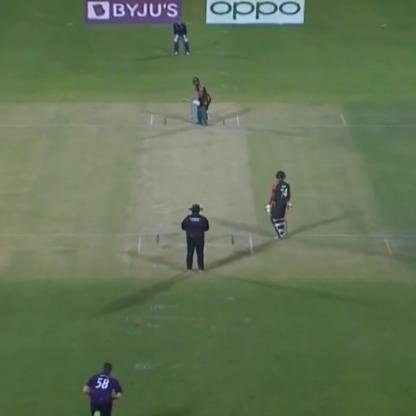pitch: (132, 112, 253, 268)
